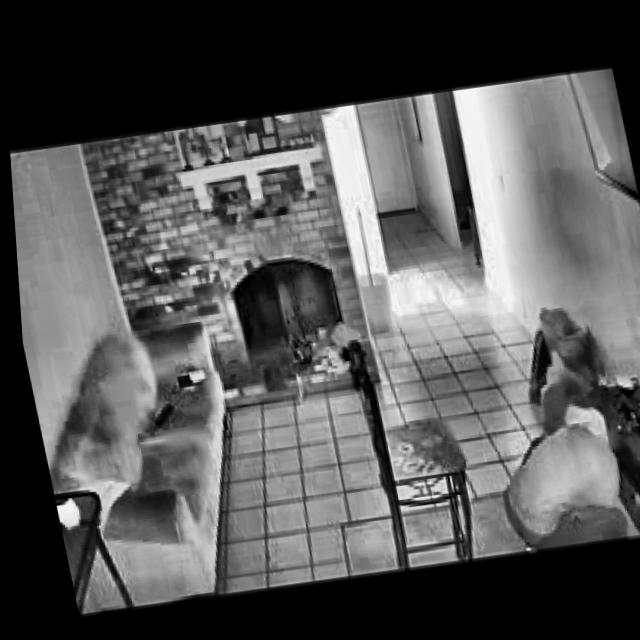burglary: (467, 360, 640, 553)
